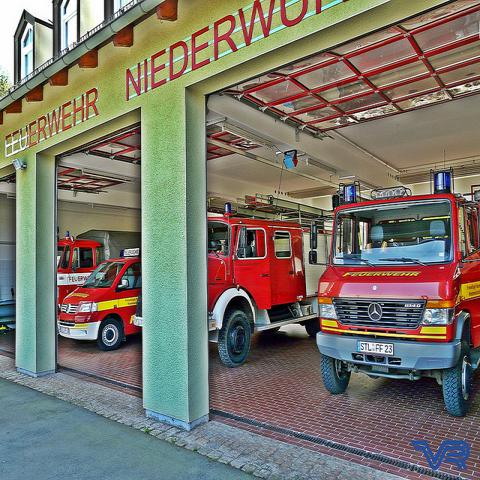truck: (316, 167, 480, 416), (206, 201, 334, 369), (57, 247, 140, 351), (57, 230, 141, 310)
